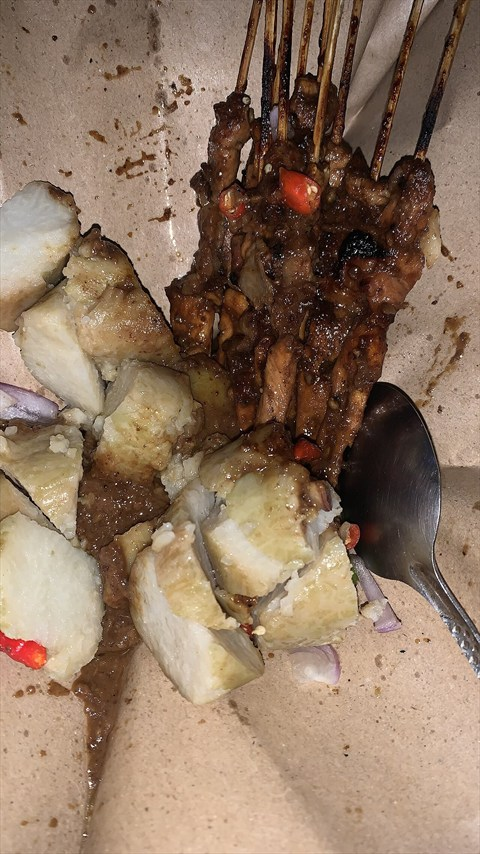Sate Ayam: (61, 34, 416, 642)
